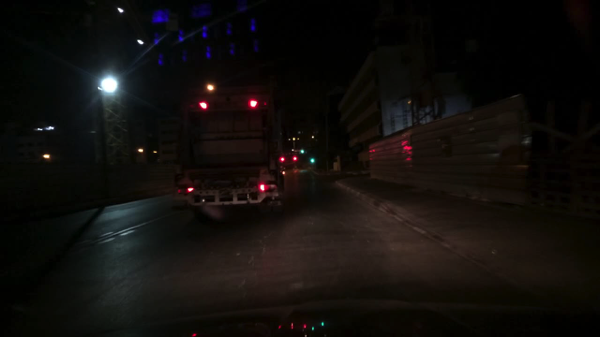traffic light: (310, 158, 316, 167), (300, 148, 306, 155)
truck: (173, 81, 299, 217), (280, 150, 298, 170)
